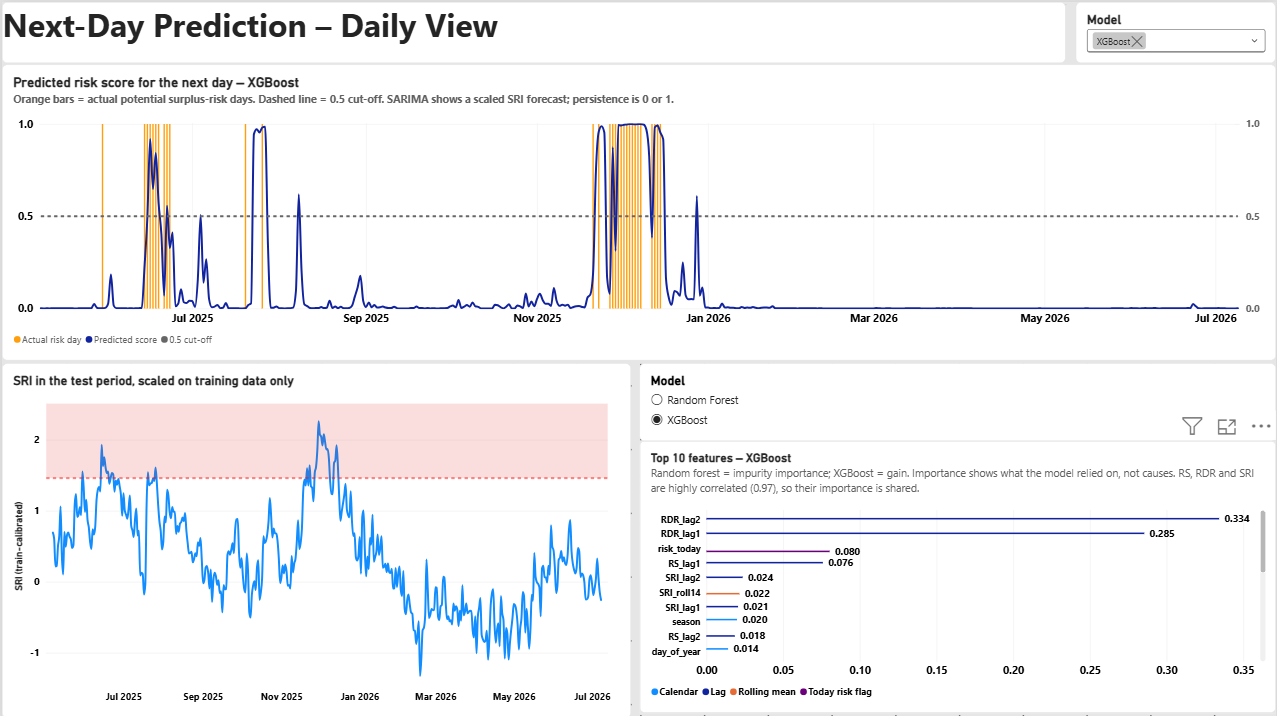

The dashboard page shown, as its layout file describes it:
{"tool":"powerbi","page":{"name":"Prediction – Daily View","canvas":[1920,1080],"ordinal":5},"visuals":[{"type":"listSlicer","fields":{"Values":["Models.Model"]},"box":[1617.5,0,302.5,92.4],"z":0},{"type":"textbox","box":[0,0,1601.2,92.4],"z":1000},{"type":"lineClusteredColumnComboChart","fields":{"Category":["DateTable.Date"],"Y":["model_predictions_long.Actual Risk Day"],"Y2":["model_predictions_long.Predicted Score","model_predictions_long.Cut-off Line"]},"box":[0,94.2,1920,445.6],"z":2000},{"type":"lineChart","title":"SRI in the test period, scaled on training data only","fields":{"Category":["DateTable.Date"],"Y":["sri_test_period.Test SRI"]},"box":[0,543.4,947.3,534.3],"z":3000},{"type":"listSlicer","title":"Model","fields":{"Values":["feature_importance.model"]},"box":[960,543.4,960,117.7],"z":4000},{"type":"clusteredBarChart","fields":{"Category":["feature_importance.feature"],"Series":["feature_importance.feature_group"],"Y":["Sum(feature_importance.importance)"]},"box":[960,661.1,960,409.4],"z":5000}]}

Visuals, with their boxes in screenshot pixels (x1, y1, x2, y2), scaled from the page's 1920x1080 canvas onto the 1277x716 screenshot:
listSlicer - Models.Model: l=1076, t=0, r=1276, b=61
textbox: l=0, t=0, r=1065, b=61
lineClusteredColumnComboChart - DateTable.Date x model_predictions_long.Actual Risk Day: l=0, t=62, r=1276, b=358
"SRI in the test period, scaled on training data only" lineChart: l=0, t=360, r=630, b=714
"Model" listSlicer: l=638, t=360, r=1276, b=438
clusteredBarChart - feature_importance.feature x feature_importance.feature_group: l=638, t=438, r=1276, b=710
